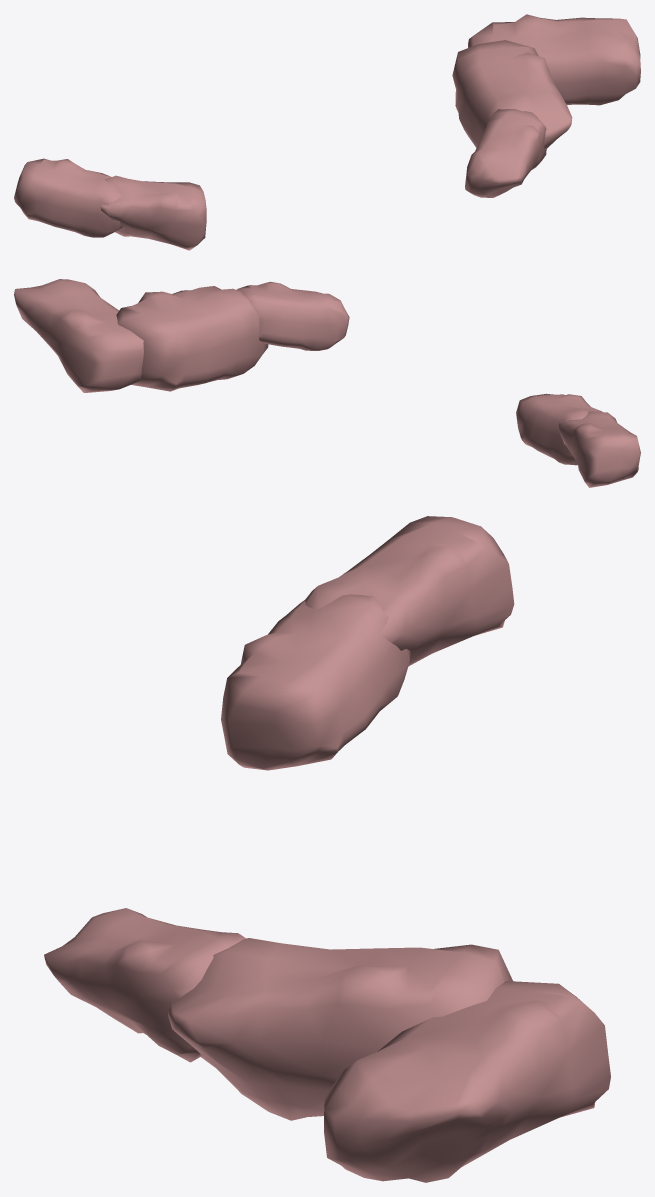
The model's file is Floor_Break_04C_Lod0.fbx.
The picture shows the model from 3 angles, top to bottom: view 1: azimuth 30°, elevation 25°; view 2: azimuth 150°, elevation 25°; view 3: azimuth 270°, elevation 25°; orthographic projection. The views are drawn at different scales.
Parts seen in each view (by area): view 1: Floor_Break_04C_Lod0; view 2: Floor_Break_04C_Lod0; view 3: Floor_Break_04C_Lod0.
Boxes of the visible parts, x1,y1,x2,y2 form: Floor_Break_04C_Lod0: [14, 14, 640, 250]; Floor_Break_04C_Lod0: [14, 279, 640, 487]; Floor_Break_04C_Lod0: [44, 516, 610, 1182].
Size of the model in its own units: 912 by 124 by 363.
